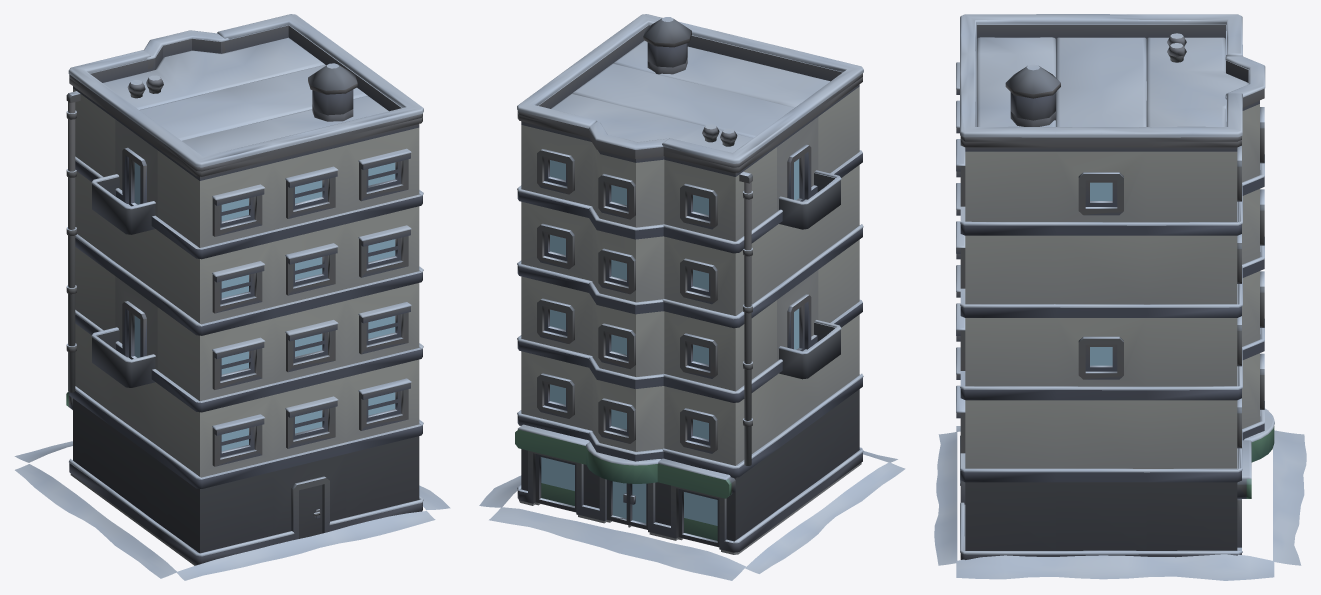
Rendered from bldg_l.glb.
3 renders of one model, left to right at view 1: azimuth 30°, elevation 25°; view 2: azimuth 150°, elevation 25°; view 3: azimuth 270°, elevation 25°, orthographic. The views are drawn at different scales.
Parts seen in each view (by area): view 1: Base, Roof; view 2: Base, Roof; view 3: Base, Roof.
Boxes of the visible parts, x1,y1,x2,y2 form: Base: [14, 29, 450, 580]; Roof: [68, 14, 423, 171]; Base: [479, 32, 905, 580]; Roof: [517, 14, 863, 167]; Base: [934, 29, 1306, 580]; Roof: [960, 14, 1265, 141].
Size of what is drawn, in the model's own units: 15.47 by 21.72 by 15.6.
